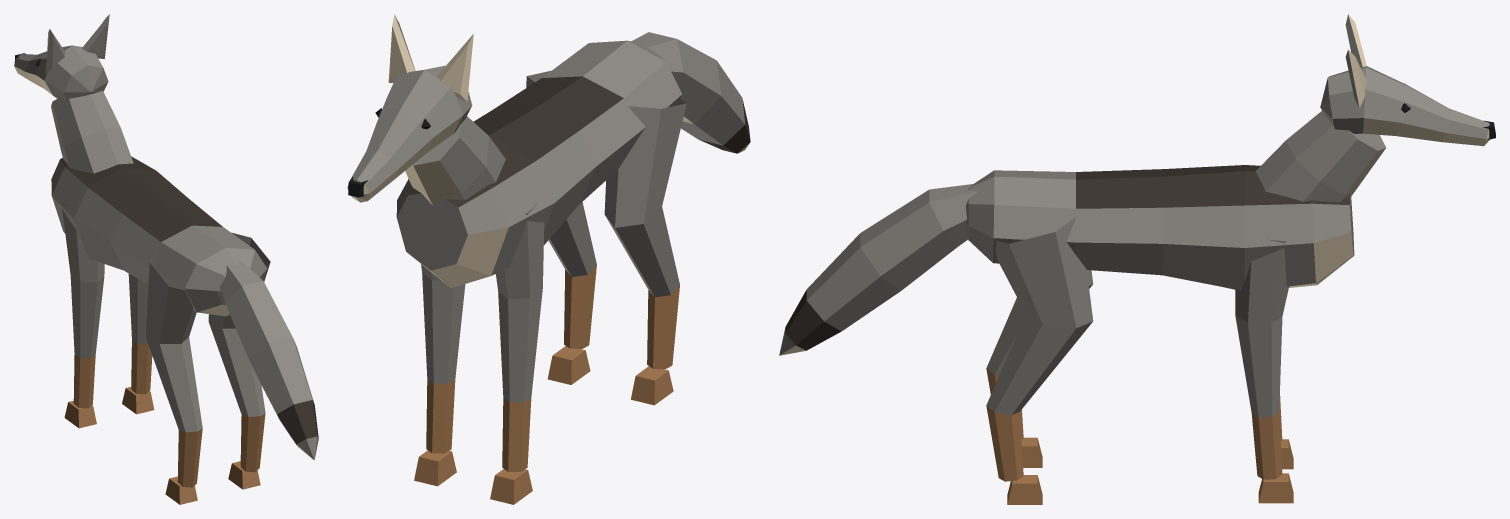
The model's file is coyote.glb.
3 views of the same model, side by side, from view 1: azimuth 30°, elevation 25°; view 2: azimuth 150°, elevation 25°; view 3: azimuth 270°, elevation 25° (orthographic). The views are drawn at different scales.
Visible parts, largest first — view 1: coyote__body, coyote__head, coyote__tail, coyote__leg_rl, coyote__leg_fl, coyote__leg_rr, coyote__leg_fr; view 2: coyote__body, coyote__head, coyote__leg_rl, coyote__leg_fl, coyote__leg_fr, coyote__tail, coyote__leg_rr; view 3: coyote__body, coyote__head, coyote__leg_rr, coyote__tail, coyote__leg_fr, coyote__leg_rl.
Boxes of the visible parts, <box> form: coyote__body: <box>51,156,267,316</box>; coyote__head: <box>14,14,133,173</box>; coyote__tail: <box>219,260,318,460</box>; coyote__leg_rl: <box>145,248,202,504</box>; coyote__leg_fl: <box>61,202,104,428</box>; coyote__leg_rr: <box>208,232,270,489</box>; coyote__leg_fr: <box>122,273,154,414</box>; coyote__body: <box>396,40,682,288</box>; coyote__head: <box>347,14,505,205</box>; coyote__leg_rl: <box>604,98,686,405</box>; coyote__leg_fl: <box>490,203,544,504</box>; coyote__leg_fr: <box>414,264,465,486</box>; coyote__tail: <box>632,32,750,153</box>; coyote__leg_rr: <box>526,70,596,384</box>; coyote__body: <box>965,165,1354,290</box>; coyote__head: <box>1255,14,1495,202</box>; coyote__leg_rr: <box>986,217,1093,504</box>; coyote__tail: <box>779,183,978,355</box>; coyote__leg_fr: <box>1235,239,1293,503</box>; coyote__leg_rl: <box>986,270,1093,467</box>.
Bounding box in the file's own units: 0.2266 × 0.7899 × 1.14.
1 material, 1 textured.
